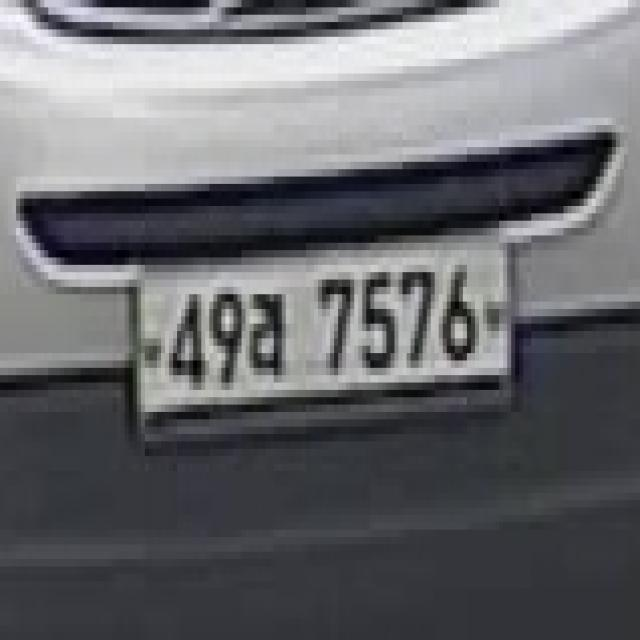4: (168, 291, 206, 395)
5: (359, 267, 398, 380)
6: (440, 262, 477, 374)
7: (311, 268, 356, 386), (403, 266, 438, 370)
9: (210, 279, 244, 397)
la: (249, 285, 289, 389)
license_plate: (125, 241, 514, 411)
